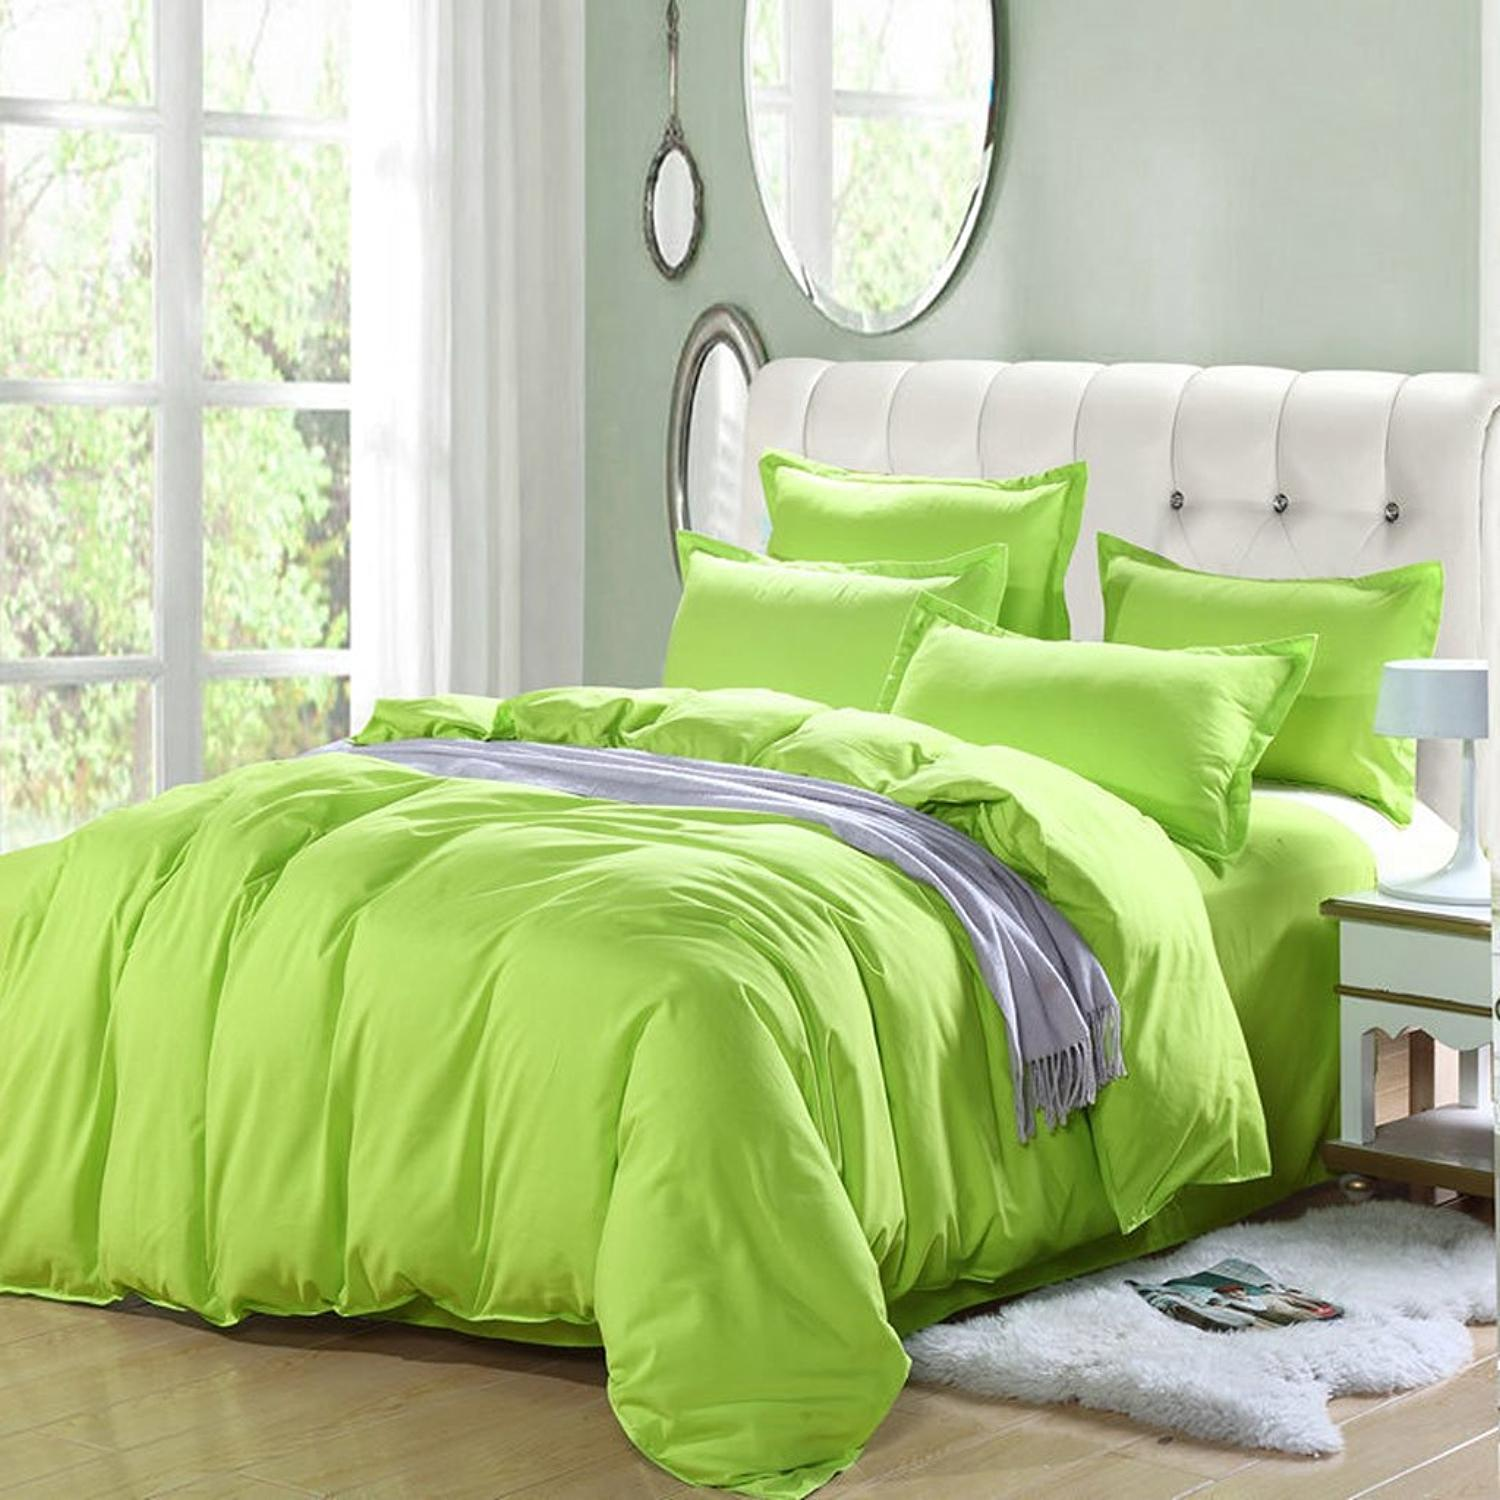bed: (180, 433, 1287, 1120)
